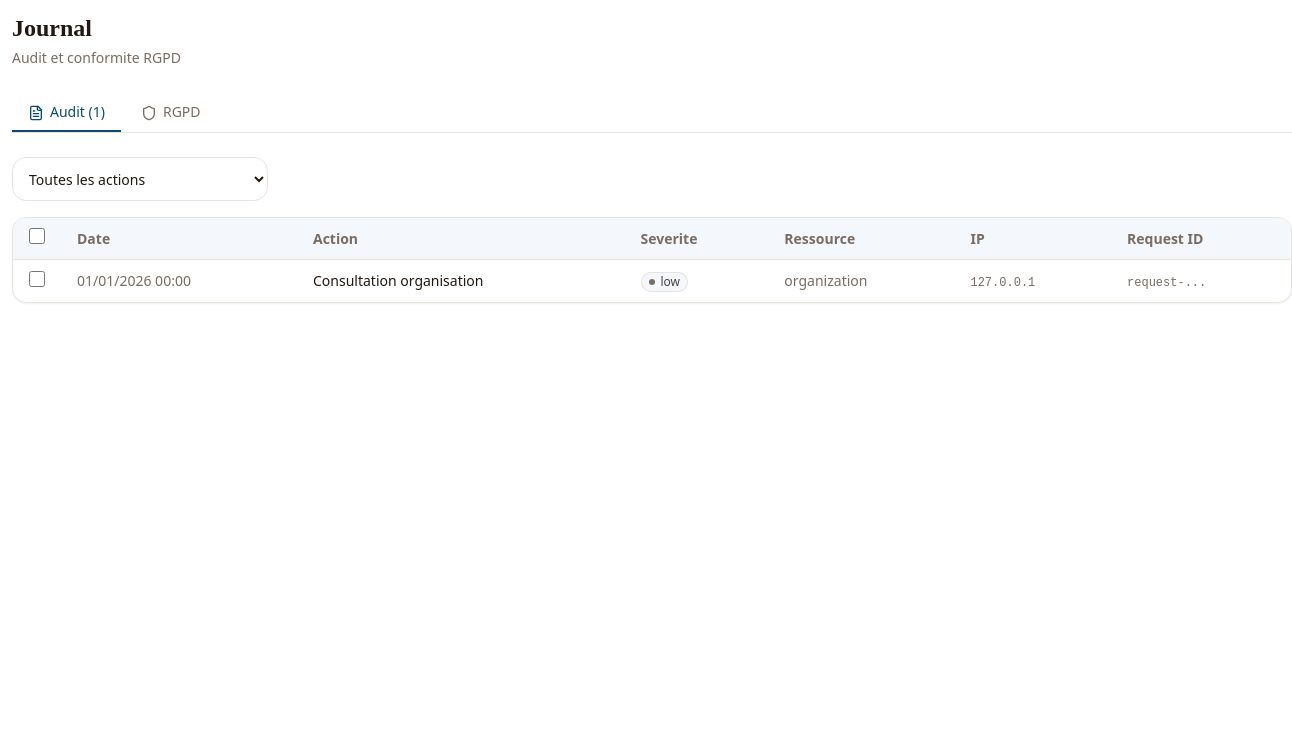
Test case: restructured admin pages › JournalPage switches to RGPD section
The width and height of the screenshot is (1292, 732).
Click the button "RGPD" at point(171, 112), box [125, 92, 216, 132]
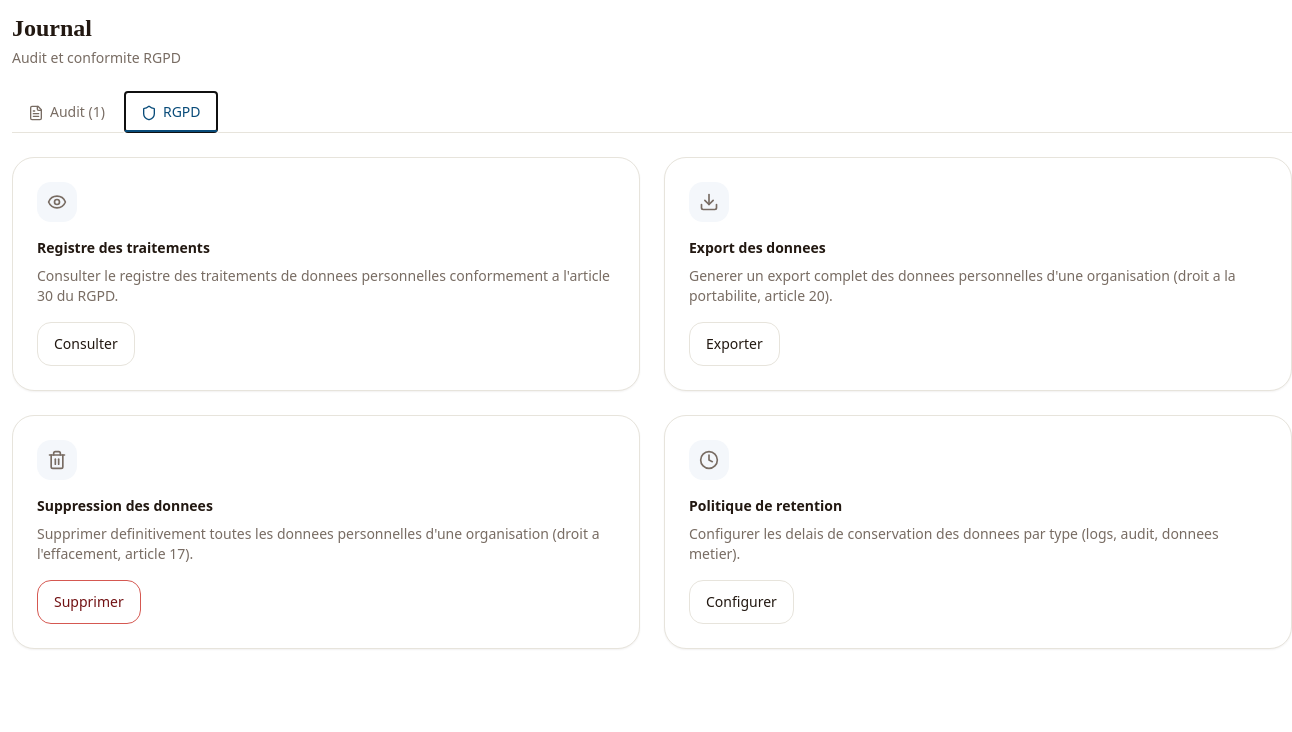
Expected: the heading "Registre des traitements" is shown, [37, 238, 210, 257]
Expected: the heading "Export des donnees" is shown, [689, 238, 826, 257]
Expected: the heading "Suppression des donnees" is shown, [37, 496, 213, 515]
